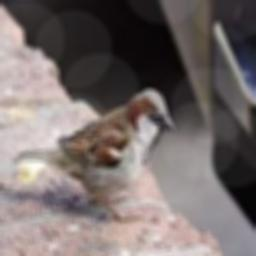Sparrow: (13, 87, 175, 219)
